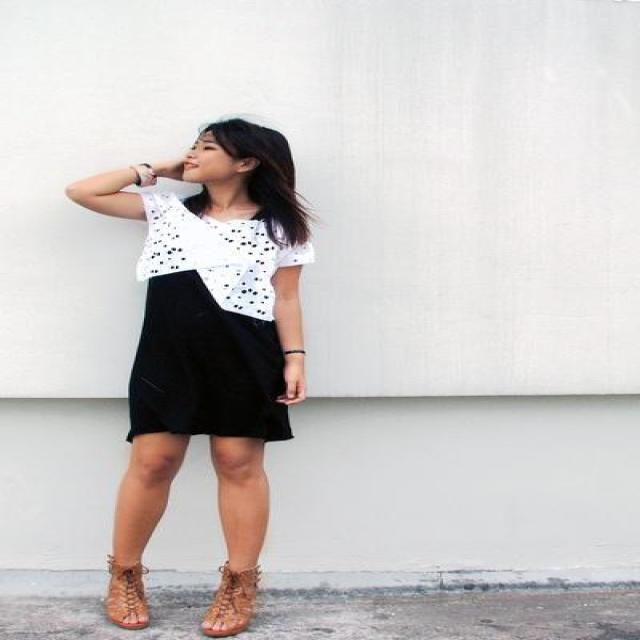shirt: (139, 193, 288, 319)
shoe: (101, 562, 261, 638)
skirt: (126, 270, 298, 441)
